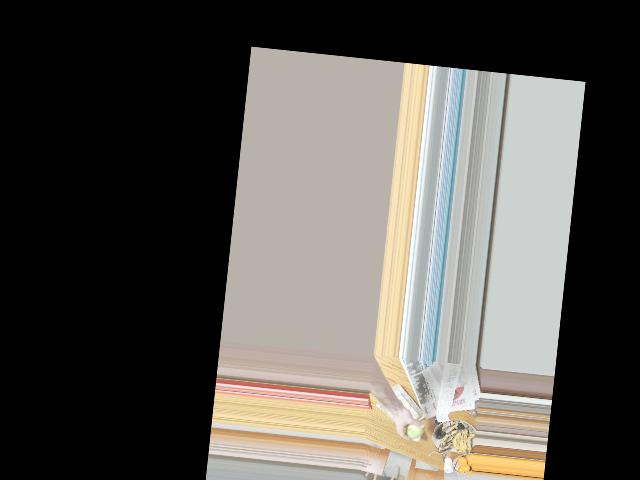apple: (400, 420, 423, 440)
